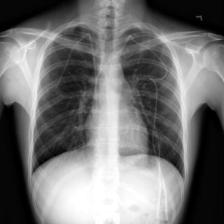normal: (29, 19, 189, 186)
